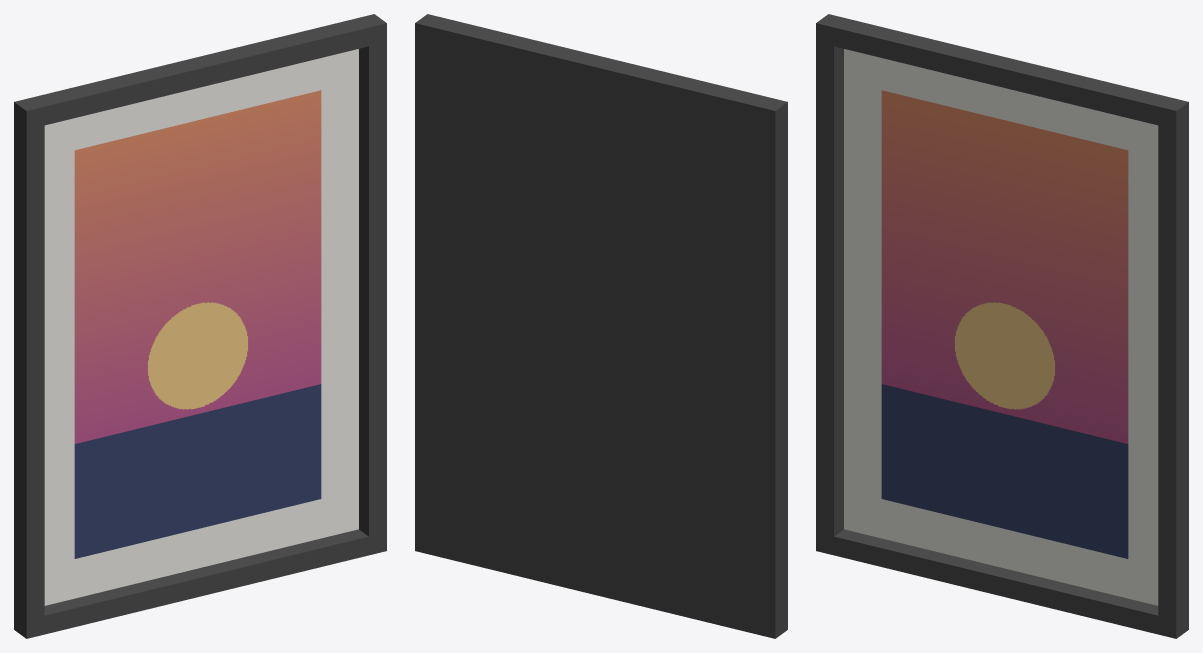
File: wallart_01.glb
3 views of the same model, side by side, from view 1: azimuth 30°, elevation 25°; view 2: azimuth 150°, elevation 25°; view 3: azimuth 330°, elevation 25° (orthographic).
Parts seen in each view (by area): view 1: frame; view 2: frame; view 3: frame.
Part boxes in pixels (x1,y1,x2,y2): frame: (14,14,386,638); frame: (415,14,787,638); frame: (816,14,1188,638).
Size of the model in its own units: 0.5 by 0.7 by 0.03.
3 materials, 1 textured.
